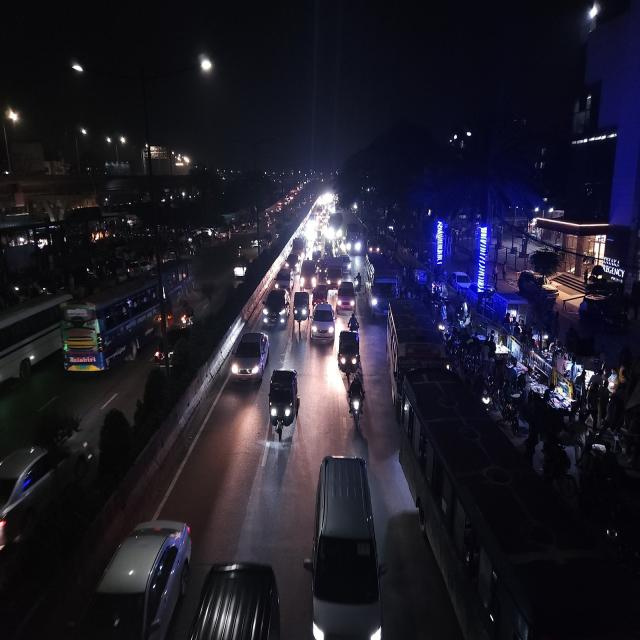bus: (58, 276, 170, 376), (386, 295, 446, 413), (0, 296, 63, 391), (362, 250, 402, 317), (345, 222, 362, 256)
car: (308, 450, 390, 640), (95, 520, 191, 640), (229, 331, 272, 381), (152, 327, 190, 373), (260, 286, 290, 331), (310, 302, 335, 343), (336, 280, 356, 314), (300, 258, 318, 290), (273, 268, 296, 290), (231, 258, 252, 280), (284, 253, 301, 272), (250, 233, 262, 249)
cng: (267, 368, 302, 440), (337, 327, 364, 381), (293, 290, 311, 326)
motorcycle: (345, 377, 367, 426), (180, 299, 196, 331), (355, 272, 362, 293)
truck: (325, 254, 343, 290)
